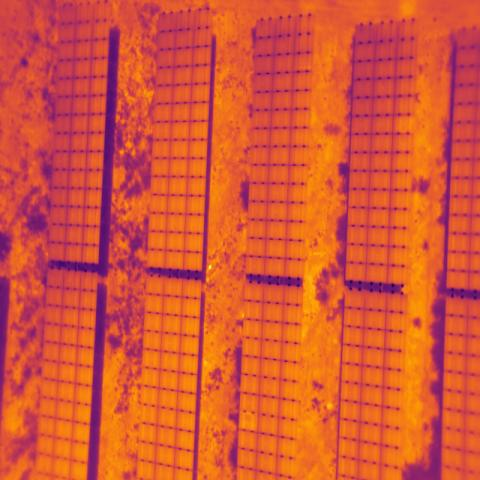fault: (240, 411, 258, 431)
